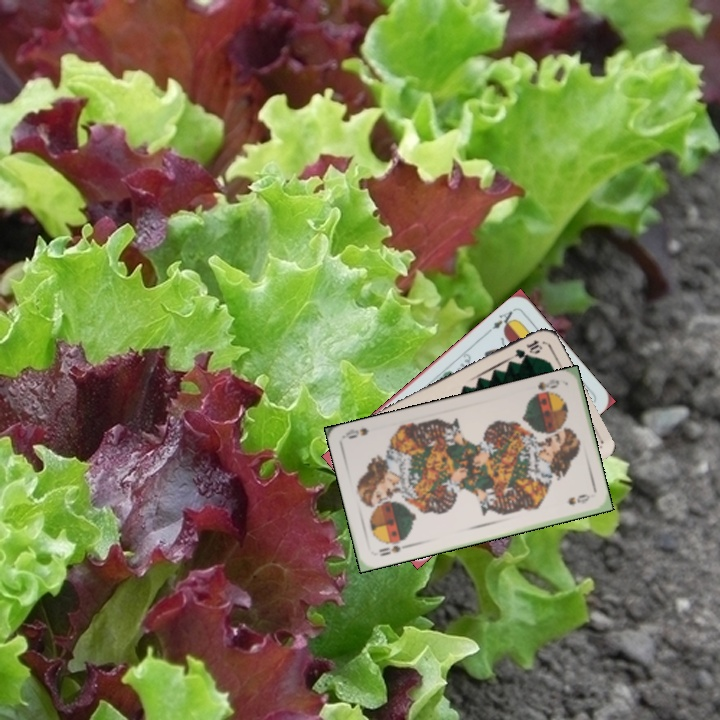EA: (488, 305, 518, 332)
G10: (507, 336, 545, 362)
SO: (527, 375, 562, 401), (375, 536, 411, 559)
